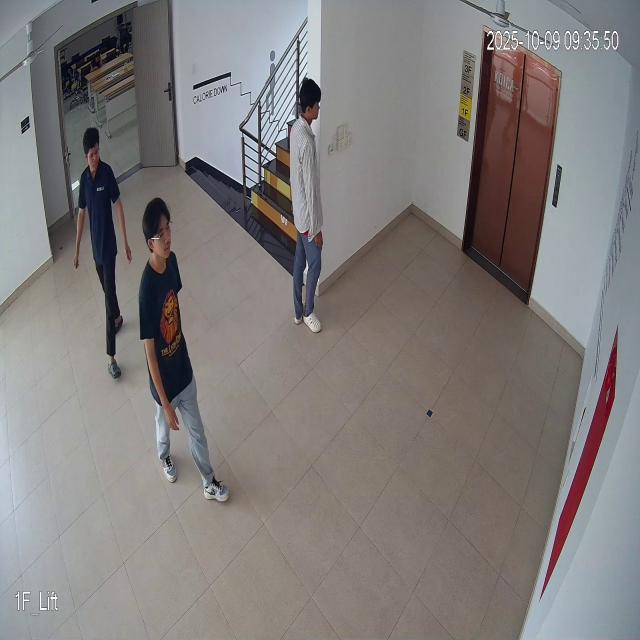face: (136, 191, 177, 267), (83, 124, 102, 172)
